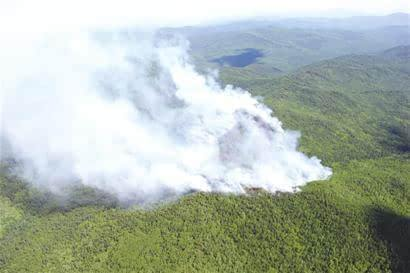yanwu: (1, 0, 332, 198)
